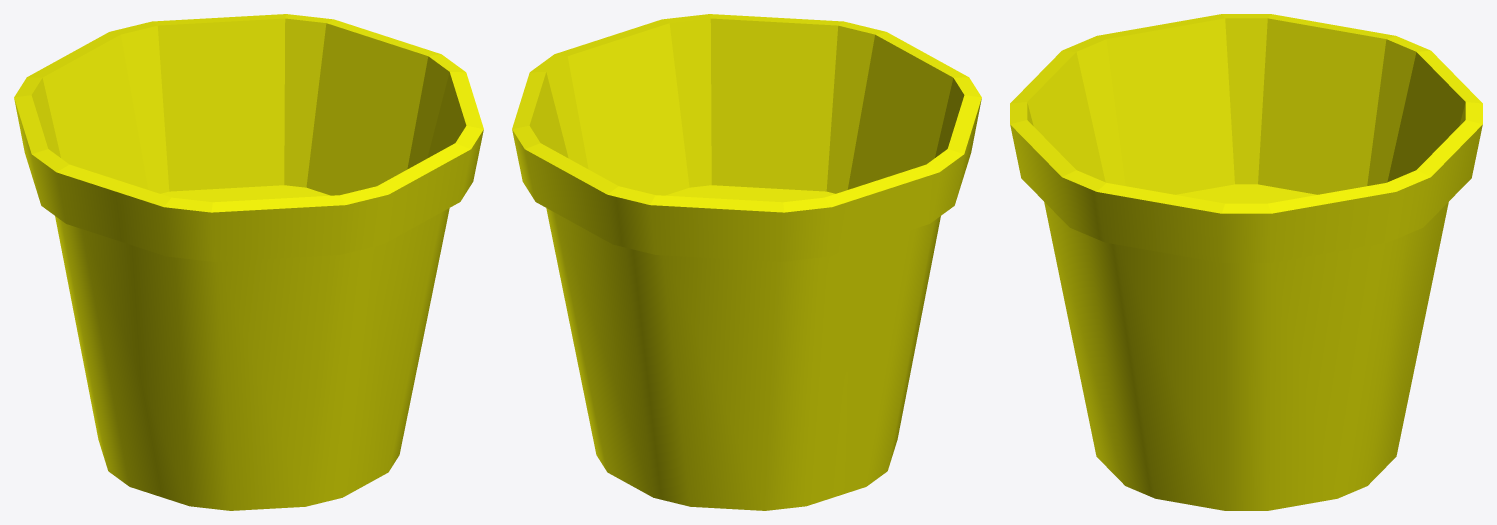
File: Maceta.fbx
3 views of the same model, side by side, from view 1: azimuth 30°, elevation 25°; view 2: azimuth 150°, elevation 25°; view 3: azimuth 270°, elevation 25° (orthographic).
Visible parts, largest first — view 1: Maceta001; view 2: Maceta001; view 3: Maceta001.
Part boxes in pixels (x1,y1,x2,y2): Maceta001: [14, 14, 483, 510]; Maceta001: [512, 14, 981, 510]; Maceta001: [1010, 14, 1482, 510].
Size of the model in its own units: 6.81 by 5.66 by 6.81.
